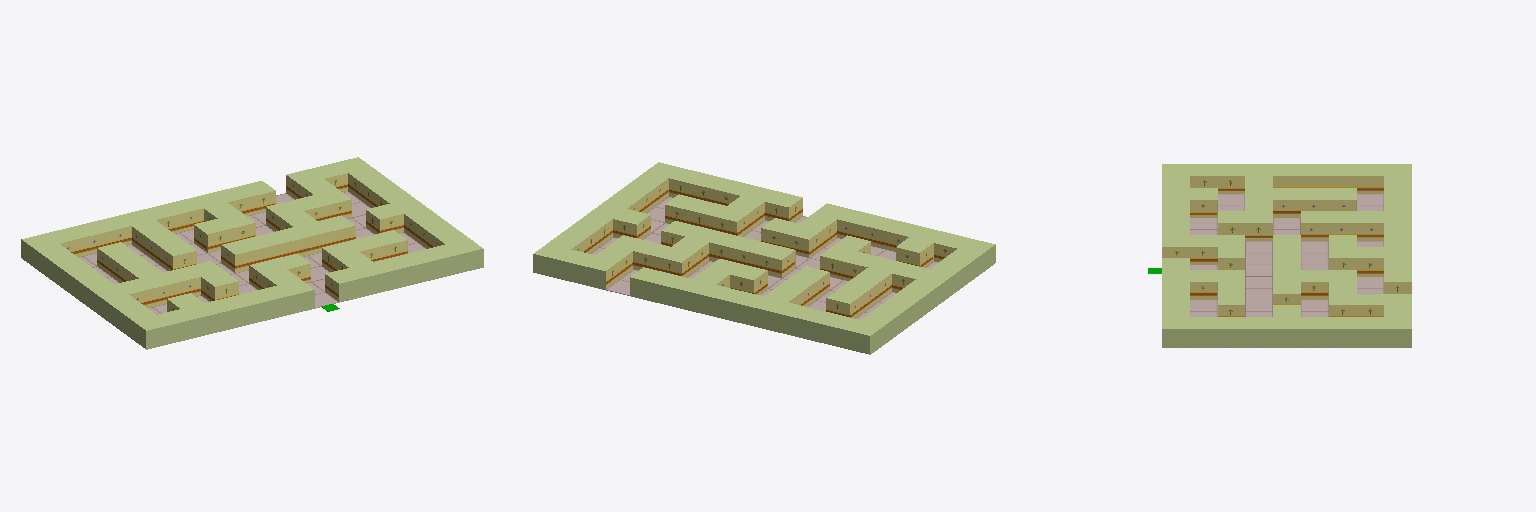
3 renders of one model, left to right at view 1: azimuth 30°, elevation 25°; view 2: azimuth 150°, elevation 25°; view 3: azimuth 270°, elevation 25°, orthographic.
Visible parts, largest first — view 1: polySurface1; view 2: polySurface1; view 3: polySurface1.
Part boxes in pixels (left/top/right/bottom): polySurface1: left=21, top=157, right=483, bottom=349; polySurface1: left=533, top=162, right=995, bottom=354; polySurface1: left=1148, top=164, right=1411, bottom=347.
Bounding box in the file's own units: 672 × 36 × 456.
Materials: 1 (1 with a texture image).